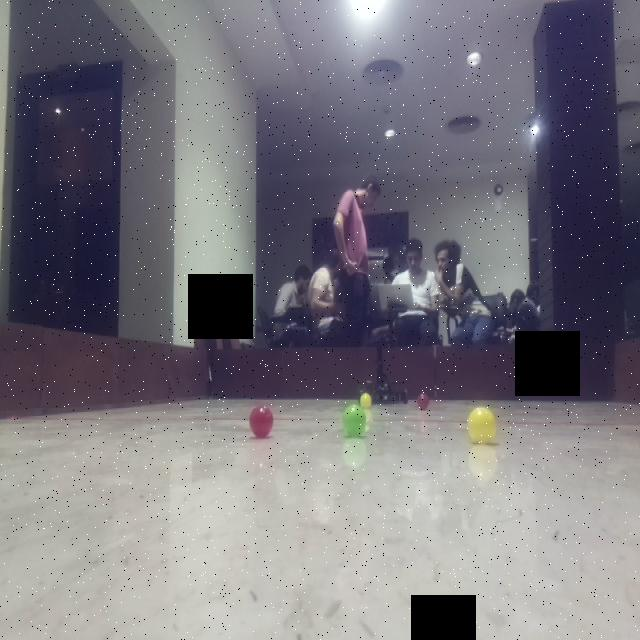ball: (464, 399, 501, 446), (247, 402, 278, 440), (339, 404, 370, 442), (411, 386, 434, 411), (356, 388, 379, 408)
